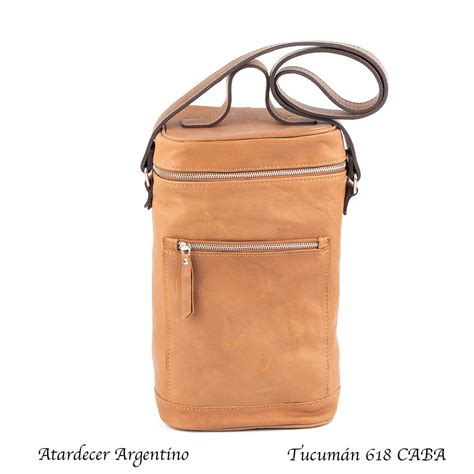cuero: (150, 103, 347, 429)
